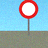sign: (19, 0, 38, 36)
